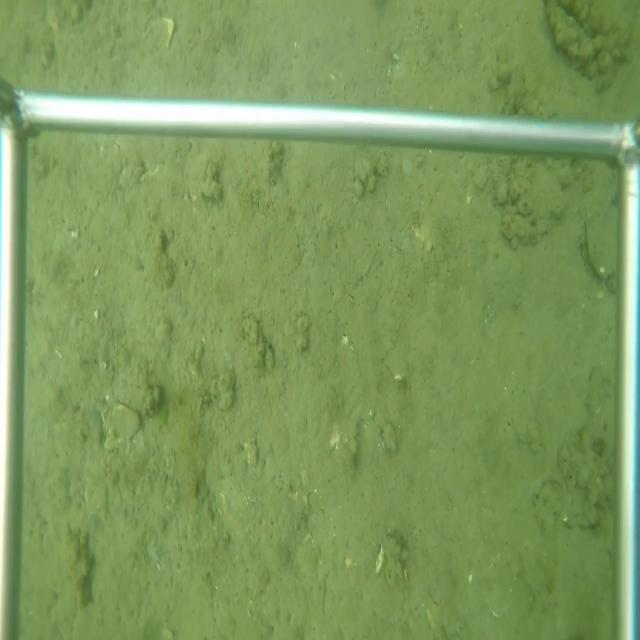Oyster-Open: (577, 186, 618, 289)
